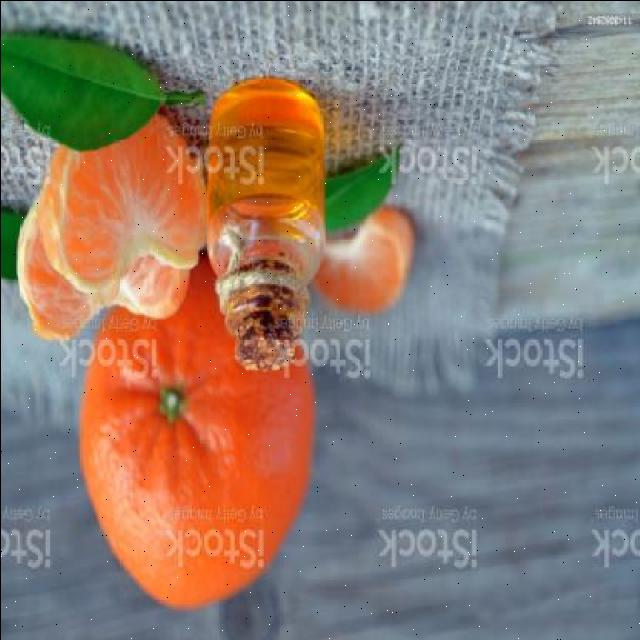Orange: (77, 257, 317, 611)
